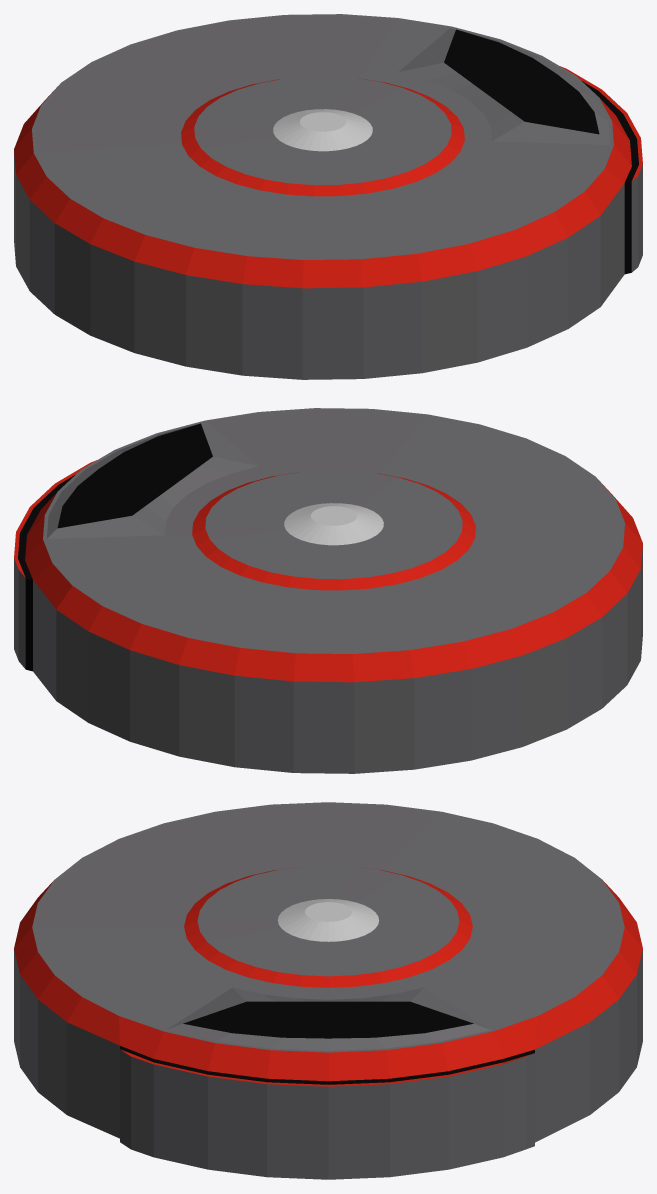
The model's file is roomba.fbx.
The picture shows the model from 3 angles, top to bottom: view 1: azimuth 30°, elevation 25°; view 2: azimuth 150°, elevation 25°; view 3: azimuth 270°, elevation 25°; orthographic projection.
Visible parts, largest first — view 1: Cylinder; view 2: Cylinder; view 3: Cylinder.
Boxes of the visible parts, box(x1,y1,x2,y2) form: Cylinder: box(14, 14, 642, 379); Cylinder: box(14, 408, 642, 773); Cylinder: box(14, 802, 642, 1179).
Bounding box in the file's own units: 204 × 47.51 × 200.
